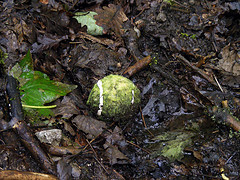tennis ball: (83, 71, 146, 124)
